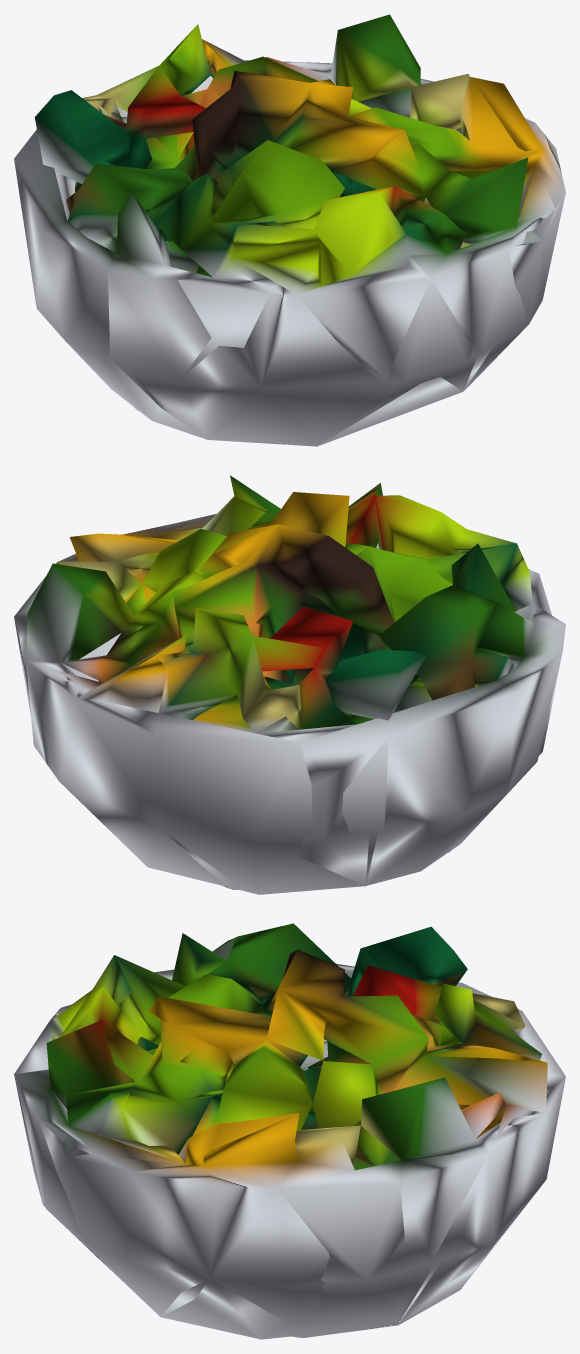
File: gen3d-salad-lod1.glb
3 views of the same model, one above another, from view 1: azimuth 30°, elevation 25°; view 2: azimuth 150°, elevation 25°; view 3: azimuth 270°, elevation 25° (orthographic).
Visible parts, largest first — view 1: part_0; view 2: part_0; view 3: part_0.
Boxes of the visible parts, box(x1,y1,x2,y2) form: part_0: box(14, 14, 565, 446); part_0: box(14, 475, 565, 894); part_0: box(14, 923, 565, 1339).
Size of the model in its own units: 1.65 by 0.9955 by 1.67.
